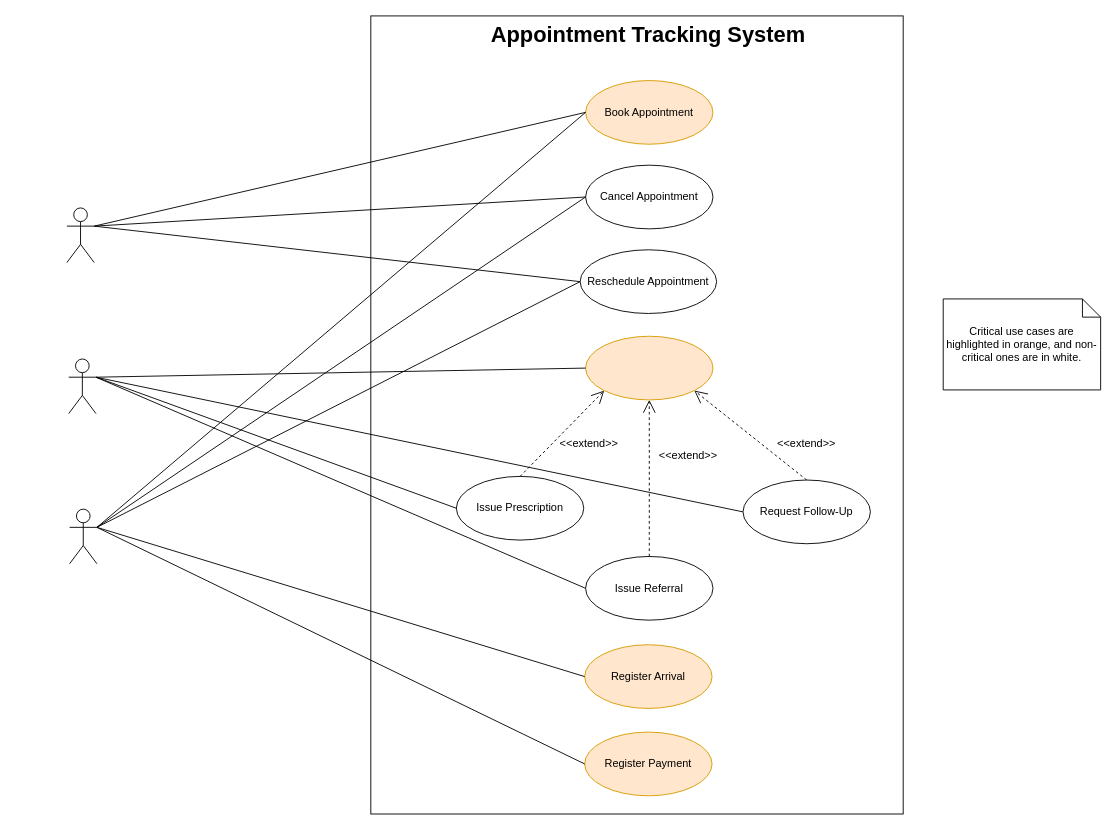
Image size: 1117x830. Some labels were removed from this diagram. Each missing label, with the centre of its shape:
Administrative staff: (83,536)
Conduct Consultation: (649,367)
Healthcare professional: (82,386)
Patient: (80,235)
